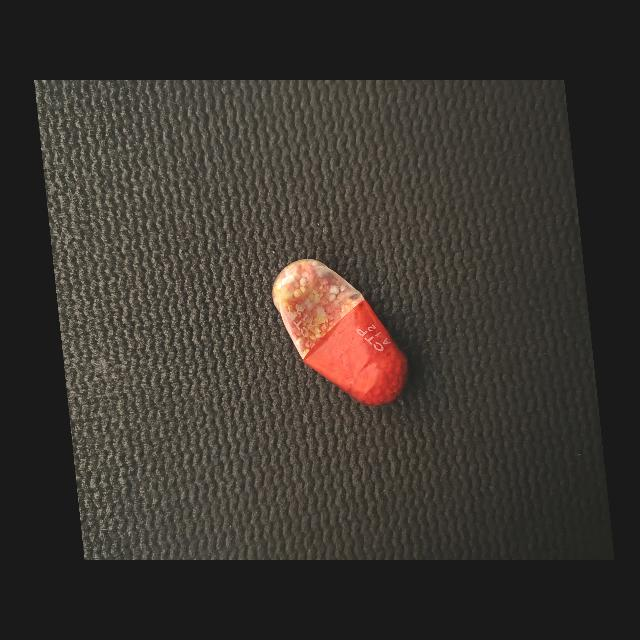Defective Capsule: (272, 259, 408, 406)
